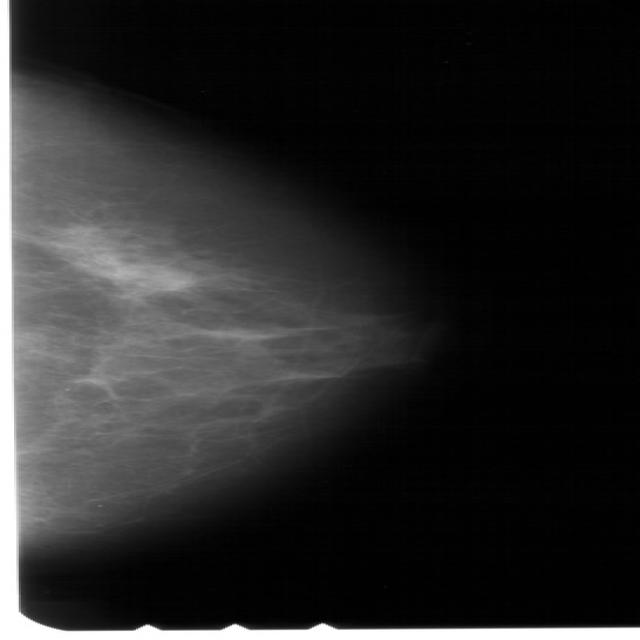tumour: (110, 262, 195, 290)
